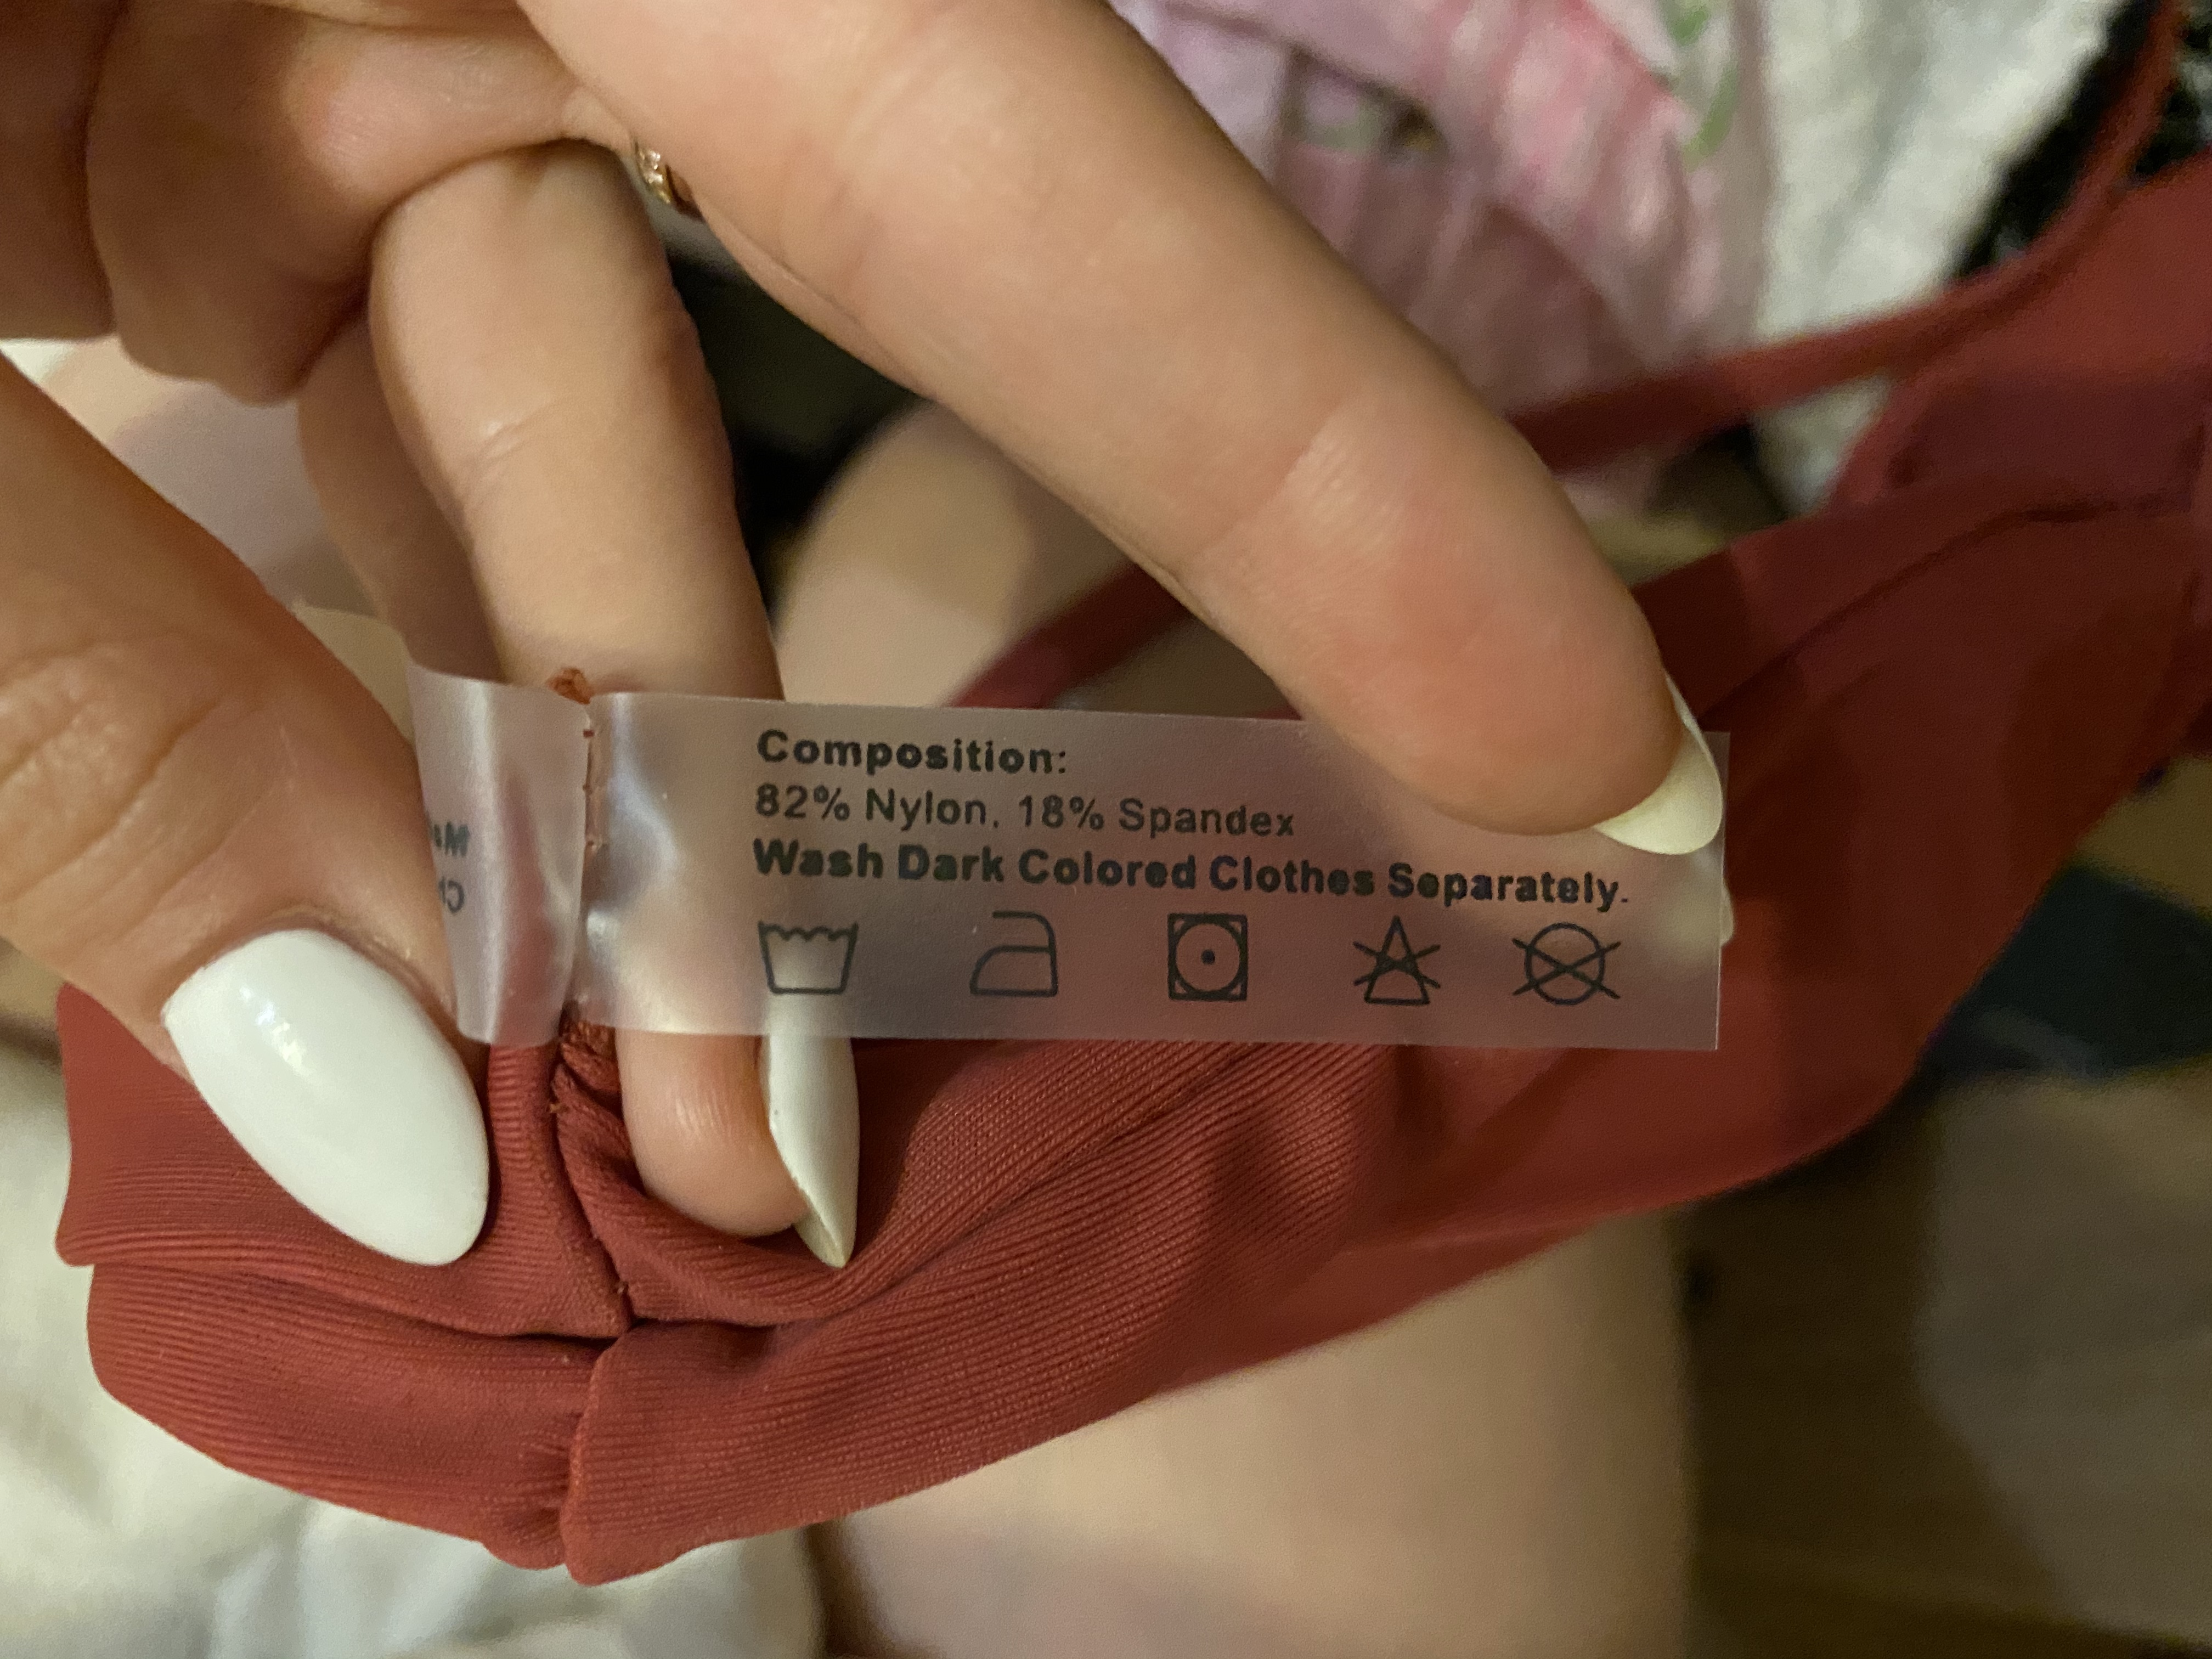do_not_bleach: (1345, 910, 1451, 1016)
do_not_dry_clean: (1510, 913, 1630, 1016)
tumble_drying_low_temps: (1163, 904, 1254, 1009)
